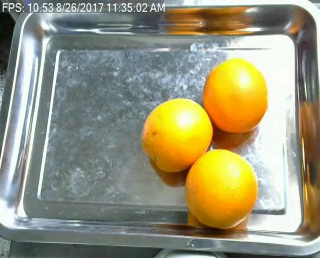Orange: (183, 147, 258, 227), (141, 98, 213, 172), (202, 58, 269, 132)
